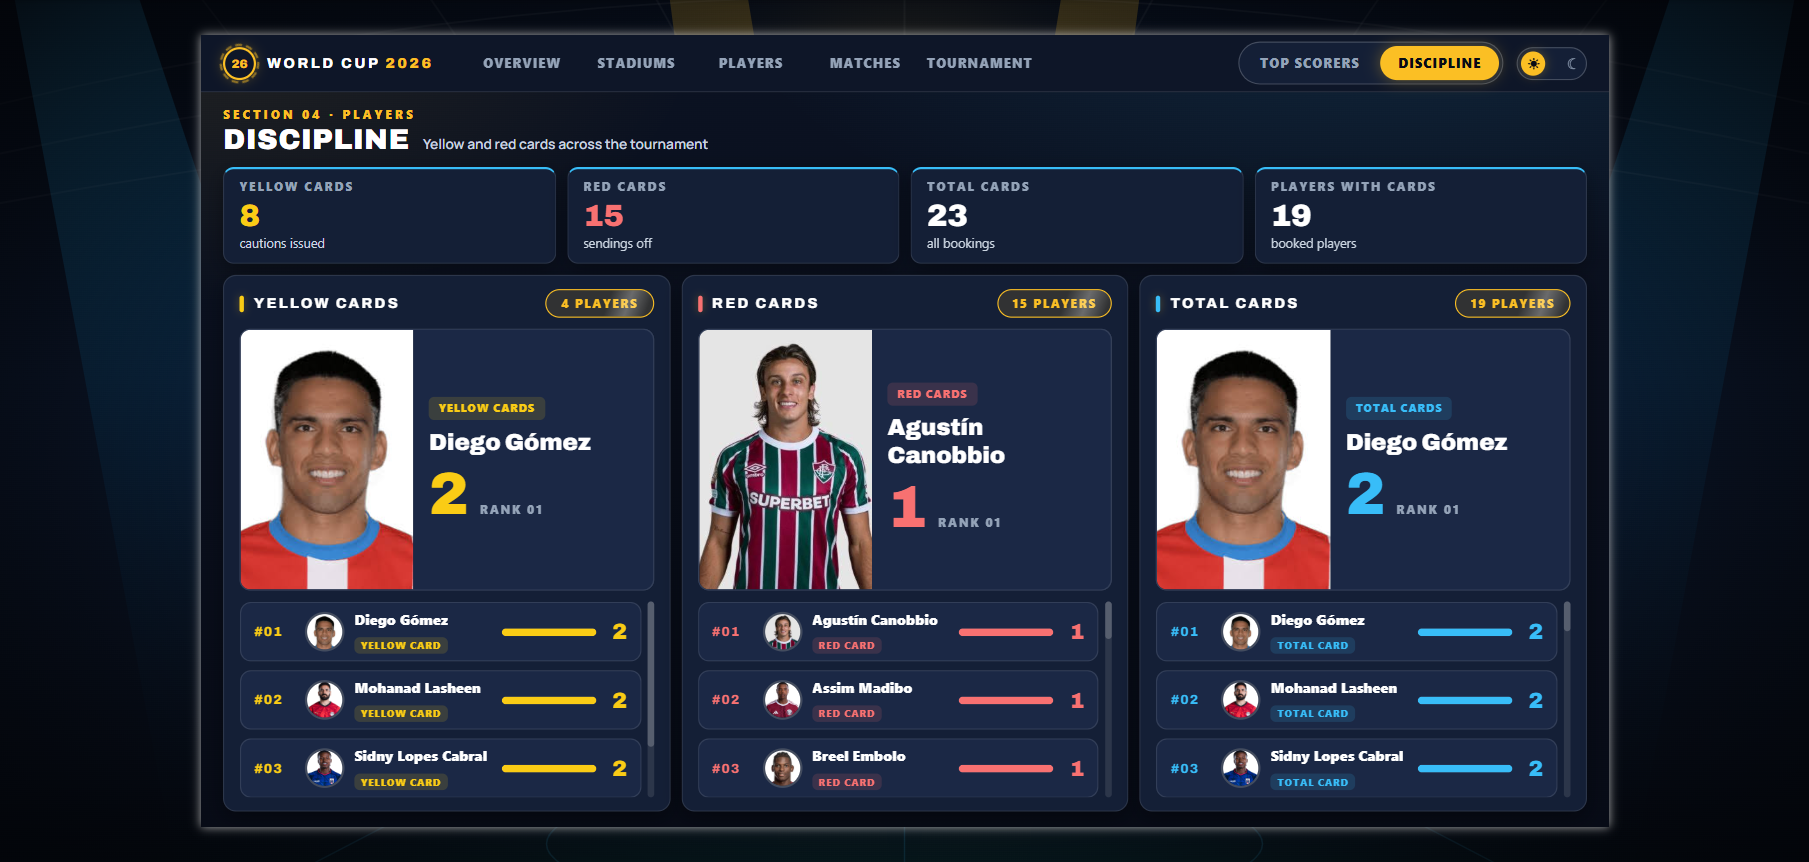

This screenshot's page, from the dashboard's own definition file:
{"tool":"powerbi","page":{"name":"Players Page","canvas":[1280,720],"ordinal":3},"visuals":[{"type":"htmlContent443BE3AD55E043BF878BED274D3A6855","fields":{"content":["HTML Visuals.Players_Page"]},"box":[0,0,1280,720],"z":0},{"type":"actionButton","title":"Tournament","box":[656,0,104,51],"z":1},{"type":"actionButton","title":"Matches","box":[552,0,104,51],"z":2},{"type":"actionButton","title":"Stadiums","box":[344,0,104,51],"z":4},{"type":"actionButton","title":"Overview","box":[240,0,104,51],"z":5}]}

Visuals, with their boxes on the page's 1280x720 design canvas (x1, y1, x2, y2). These are canvas units, not pixel positions in the 1809x862 screenshot, which may show the page scaled, cropped or inside an application window:
htmlContent443BE3AD55E043BF878BED274D3A6855 - HTML Visuals.Players_Page: Rect(0, 0, 1280, 720)
"Tournament" actionButton: Rect(656, 0, 760, 51)
"Matches" actionButton: Rect(552, 0, 656, 51)
"Stadiums" actionButton: Rect(344, 0, 448, 51)
"Overview" actionButton: Rect(240, 0, 344, 51)
